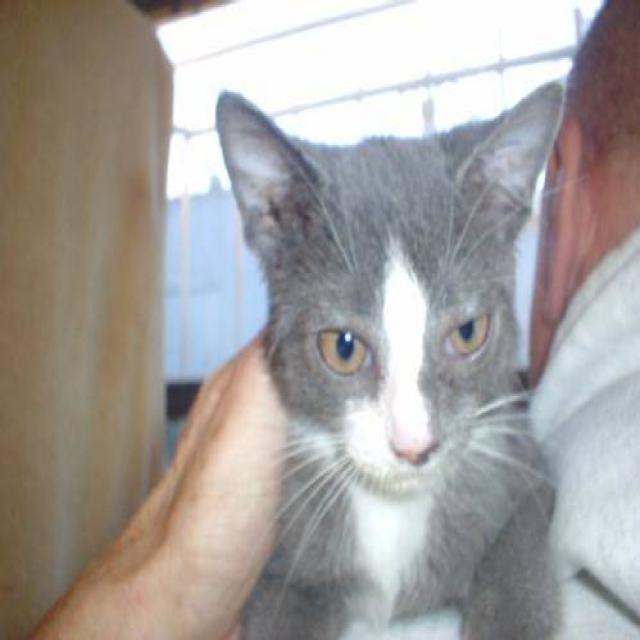cat: (213, 79, 567, 638)
